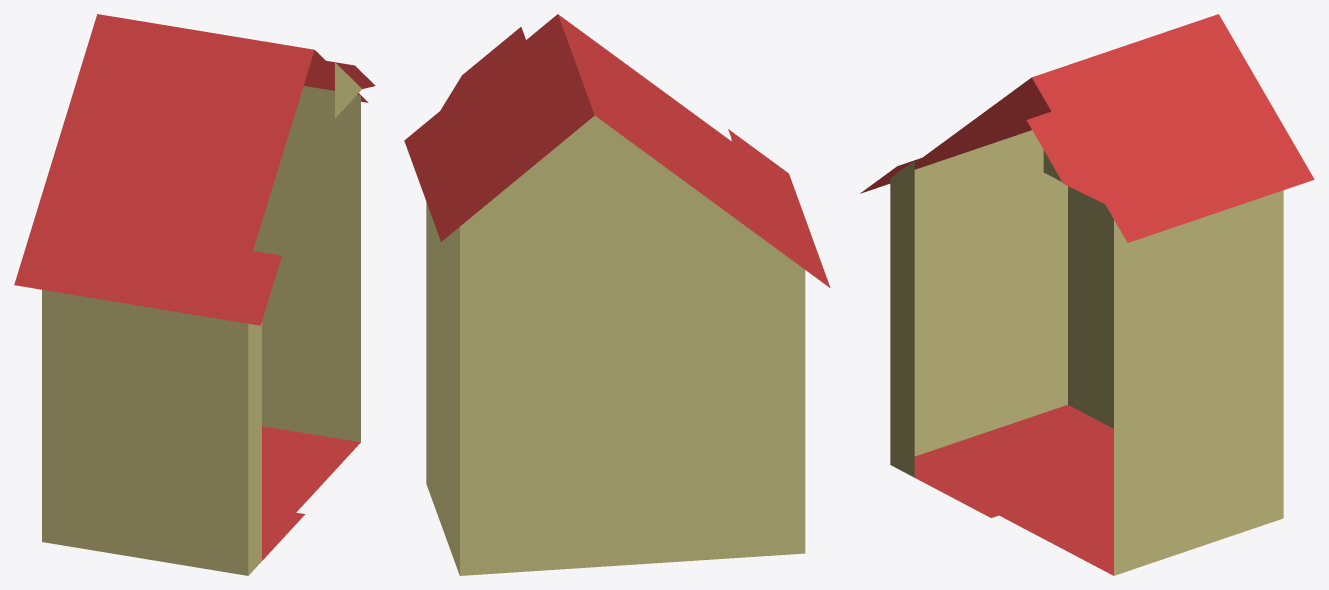
3 views of the same model, side by side, from view 1: azimuth 30°, elevation 25°; view 2: azimuth 150°, elevation 25°; view 3: azimuth 270°, elevation 25° (orthographic). The views are drawn at different scales.
Bounding box in the file's own units: 10.27 × 10.31 × 11.38.
